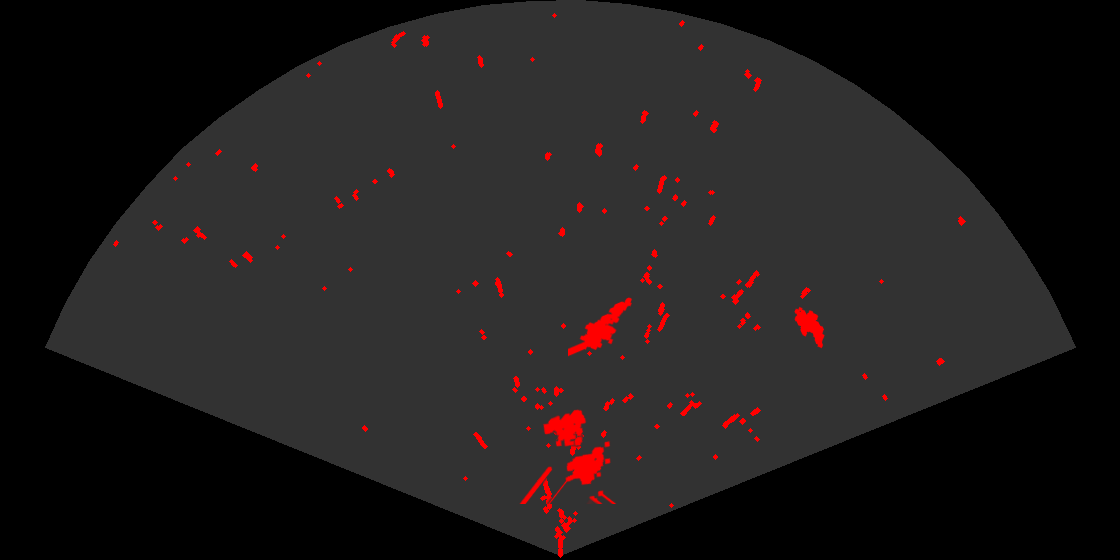AUV: (793, 305, 826, 350)
cage: (518, 408, 618, 504)
frogman: (568, 296, 634, 358)
